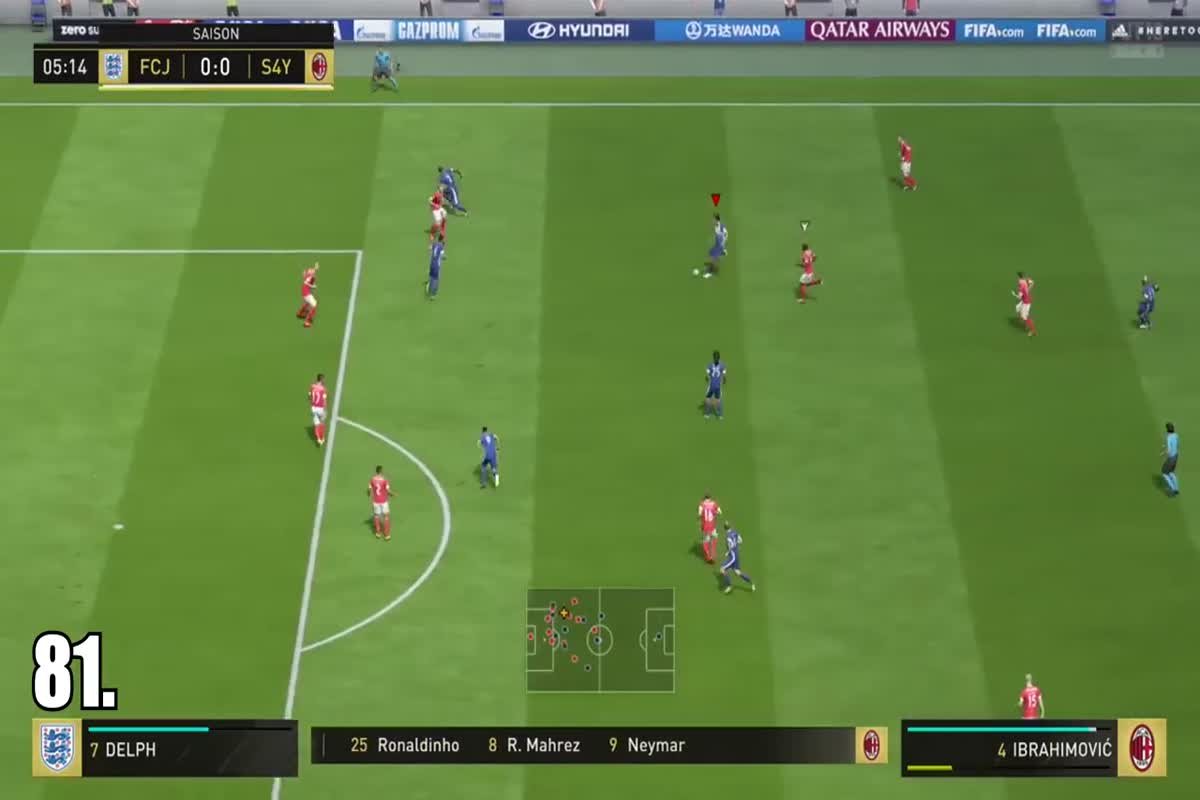ball: (686, 262, 707, 280)
